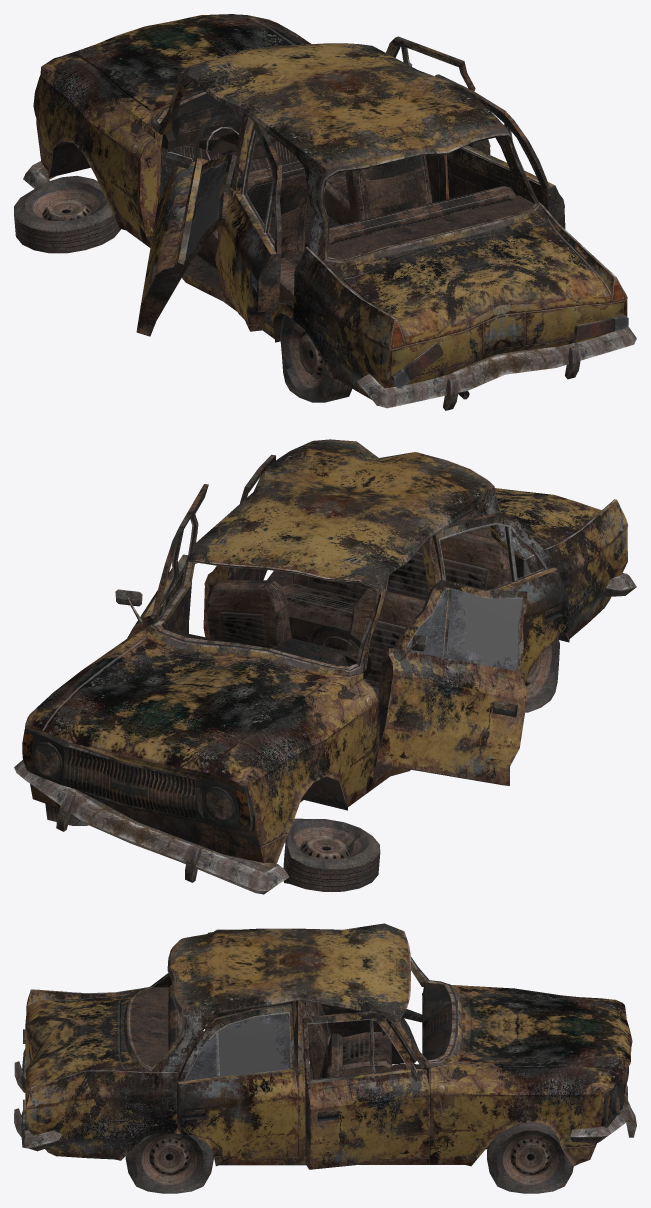
The model's file is wreck_car_rusty.glb.
3 views of the same model, one above another, from view 1: azimuth 30°, elevation 25°; view 2: azimuth 150°, elevation 25°; view 3: azimuth 270°, elevation 25° (orthographic). The views are drawn at different scales.
Visible parts, largest first — view 1: Object_5, Object_6; view 2: Object_5, Object_6; view 3: Object_5, Object_6.
Boxes of the visible parts, x1=… form: Object_5: x1=14, y1=14, x2=636, y2=410; Object_6: x1=185, y1=162, x2=226, y2=259; Object_5: x1=14, y1=439, x2=636, y2=894; Object_6: x1=408, y1=589, x2=522, y2=670; Object_5: x1=14, y1=923, x2=636, y2=1193; Object_6: x1=185, y1=1013, x2=290, y2=1080.
Bounding box in the file's own units: 2.21 × 1.39 × 4.2.
2 materials, 2 textured.
